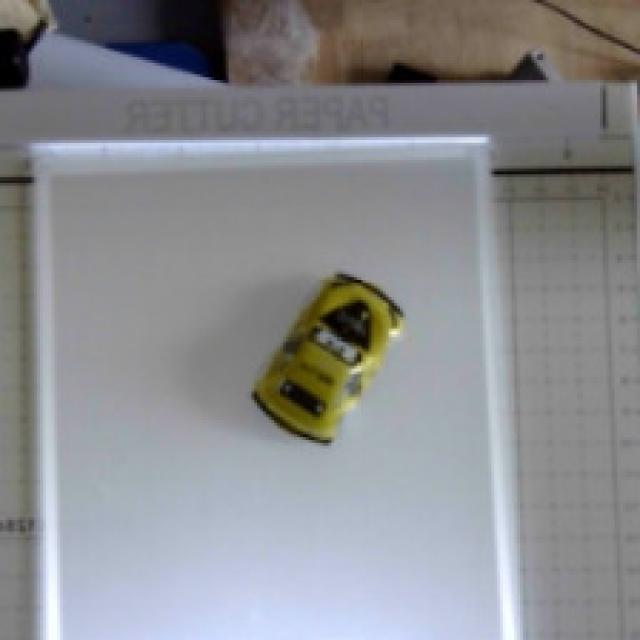Yellow Car: (231, 234, 441, 453)
